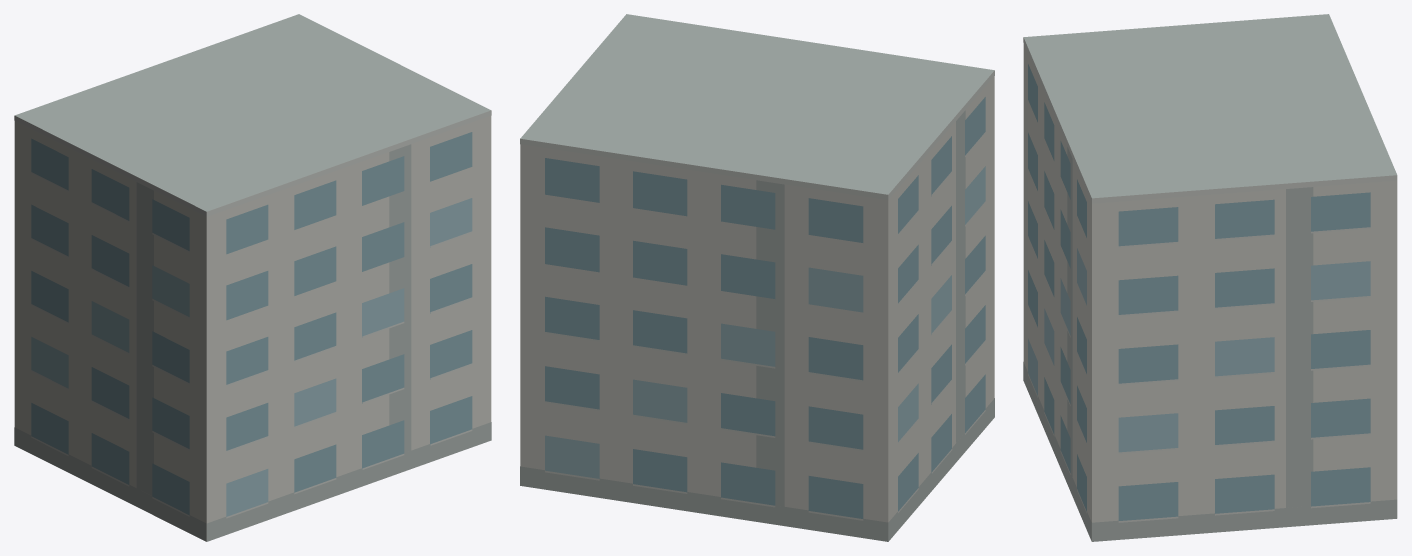
File: residential-cbccfd15-dd2c-44ed-8fb3-727381513a99.glb
The picture shows the model from 3 angles, left to right: view 1: azimuth 30°, elevation 25°; view 2: azimuth 150°, elevation 25°; view 3: azimuth 270°, elevation 25°; orthographic projection. The views are drawn at different scales.
Parts seen in each view (by area): view 1: residential-cbccfd15-dd2c-44ed-8fb3-727381513a99.tmp; view 2: residential-cbccfd15-dd2c-44ed-8fb3-727381513a99.tmp; view 3: residential-cbccfd15-dd2c-44ed-8fb3-727381513a99.tmp.
Boxes of the visible parts, bbox=[...] form: residential-cbccfd15-dd2c-44ed-8fb3-727381513a99.tmp: bbox=[14, 14, 491, 541]; residential-cbccfd15-dd2c-44ed-8fb3-727381513a99.tmp: bbox=[520, 14, 994, 541]; residential-cbccfd15-dd2c-44ed-8fb3-727381513a99.tmp: bbox=[1023, 14, 1397, 541].
Size of the model in its own units: 17.56 by 15.25 by 15.05.
